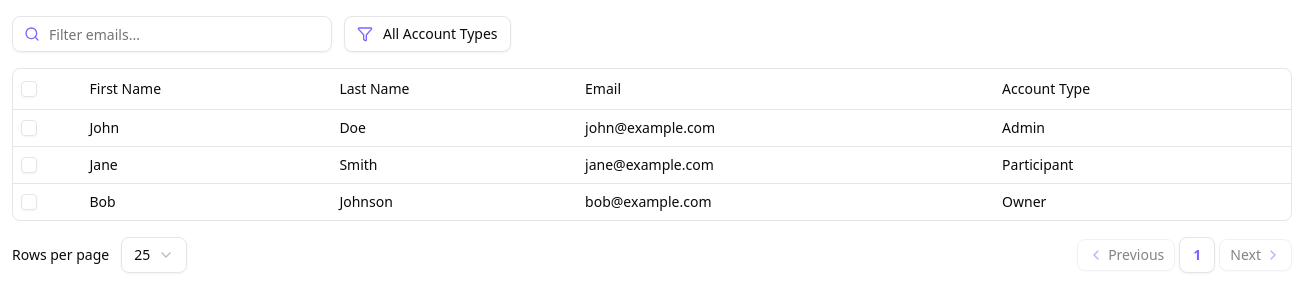
Test: ManageAccountsDataTable › row selection › shows row selection count when two rows are selected
Click the checkbox named "Select row 0" at [29, 128], box [21,120,37,136]
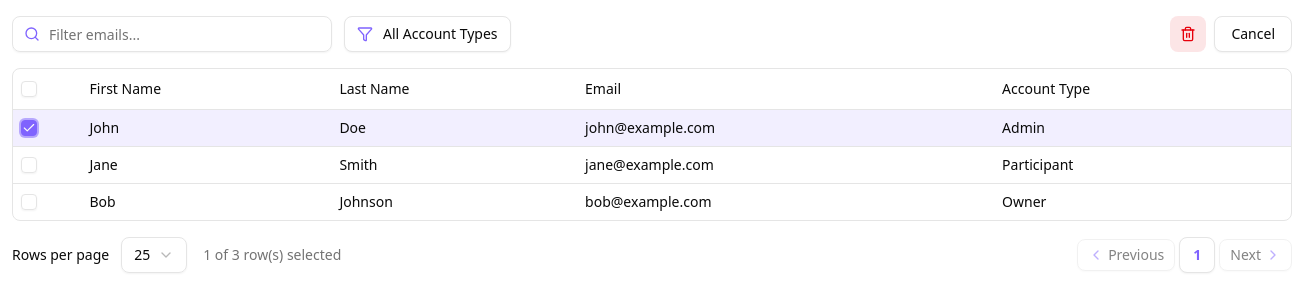
Click the checkbox named "Select row 1" at [29, 164], box [21,156,37,172]
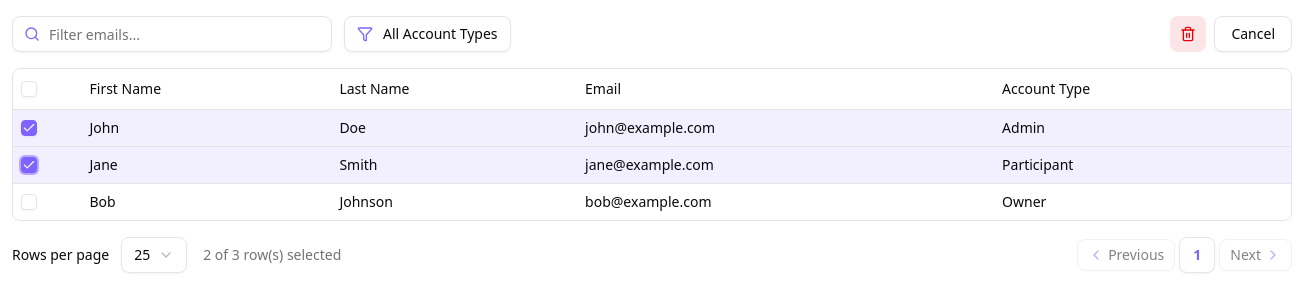
Expected: the text "2 of 3 row(s) selected" is shown, [203,244,341,264]
